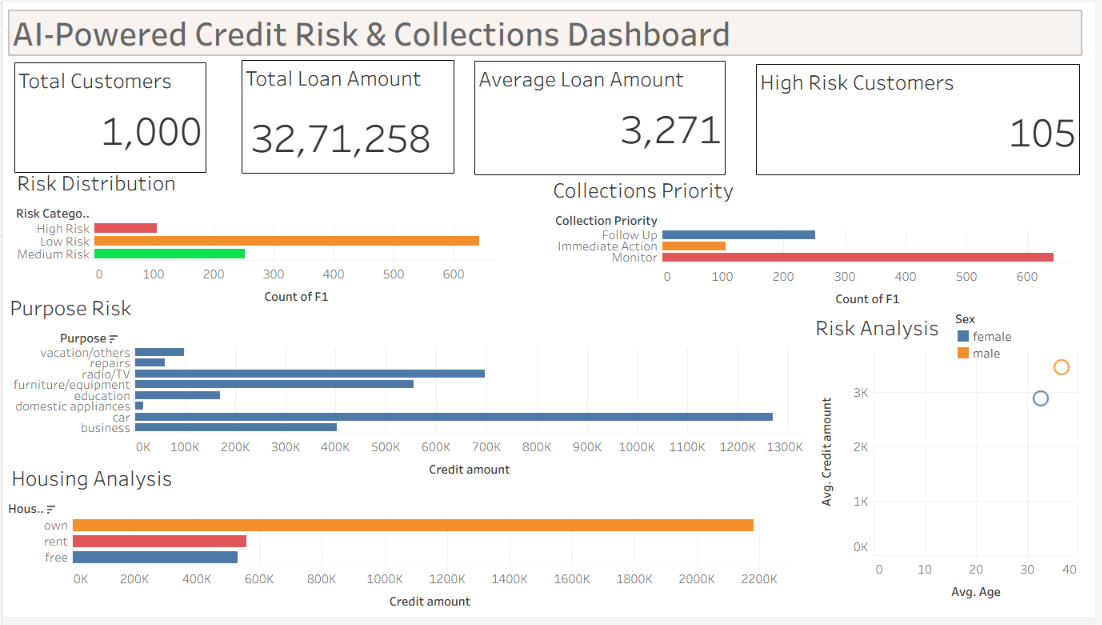

The page's visual inventory and layout, read from the dashboard file:
{"tool":"tableau","page":{"name":"Dashboard 2","canvas":[1000,1000],"units":"permille","ordinal":1},"visuals":[{"type":"text","box":[6.6,14.3,980.2,70.3]},{"type":"worksheet","title":"Total Loan Amount","mark":"Automatic","box":[218.9,93.8,194.7,184.9]},{"type":"worksheet","title":"Average Loan Amount","mark":"Automatic","box":[431.9,95,229.9,186.2]},{"type":"worksheet","title":"Total Customers","mark":"Automatic","box":[11,97.7,175.7,179.7]},{"type":"worksheet","title":"High Risk Customers","mark":"Automatic","box":[689.6,100.3,296.5,181]},{"type":"worksheet","title":"Risk Distribution","mark":"Automatic","rows":["Calculation_0200950736093185"],"cols":["F1"],"box":[10.2,265.6,444.4,235.7]},{"type":"worksheet","title":"Collections Priority","mark":"Automatic","rows":["Calculation_0200950738145283"],"cols":["F1"],"box":[500.7,277.3,479.5,227.9]},{"type":"worksheet","title":"Purpose Risk","mark":"Automatic","rows":["Purpose"],"cols":["Credit amount"],"box":[3.7,468.8,730.6,313.8]},{"type":"worksheet","title":"Risk Analysis","mark":"Automatic","rows":["Credit amount"],"cols":["Age"],"box":[740.9,501.3,259.1,480.5]},{"type":"legend","title":"Risk Analysis","param":"[federated.185d6kp1xbjv4y121a56r171pfs1].[none:Sex:nk]","box":[871.9,501.3,56.4,95]}]}

Visuals, with their boxes on the dashboard's canvas, which has no fixed pixel size, in thousandths of its width and height (x1, y1, x2, y2). These are canvas units, not pixel positions in the 1102x625 screenshot, which may show the page scaled, cropped or inside an application window:
text: region(7, 14, 987, 85)
"Total Loan Amount" worksheet: region(219, 94, 414, 279)
"Average Loan Amount" worksheet: region(432, 95, 662, 281)
"Total Customers" worksheet: region(11, 98, 187, 277)
"High Risk Customers" worksheet: region(690, 100, 986, 281)
"Risk Distribution" worksheet: region(10, 266, 455, 501)
"Collections Priority" worksheet: region(501, 277, 980, 505)
"Purpose Risk" worksheet: region(4, 469, 734, 783)
"Risk Analysis" worksheet: region(741, 501, 1000, 982)
"Risk Analysis" legend: region(872, 501, 928, 596)
